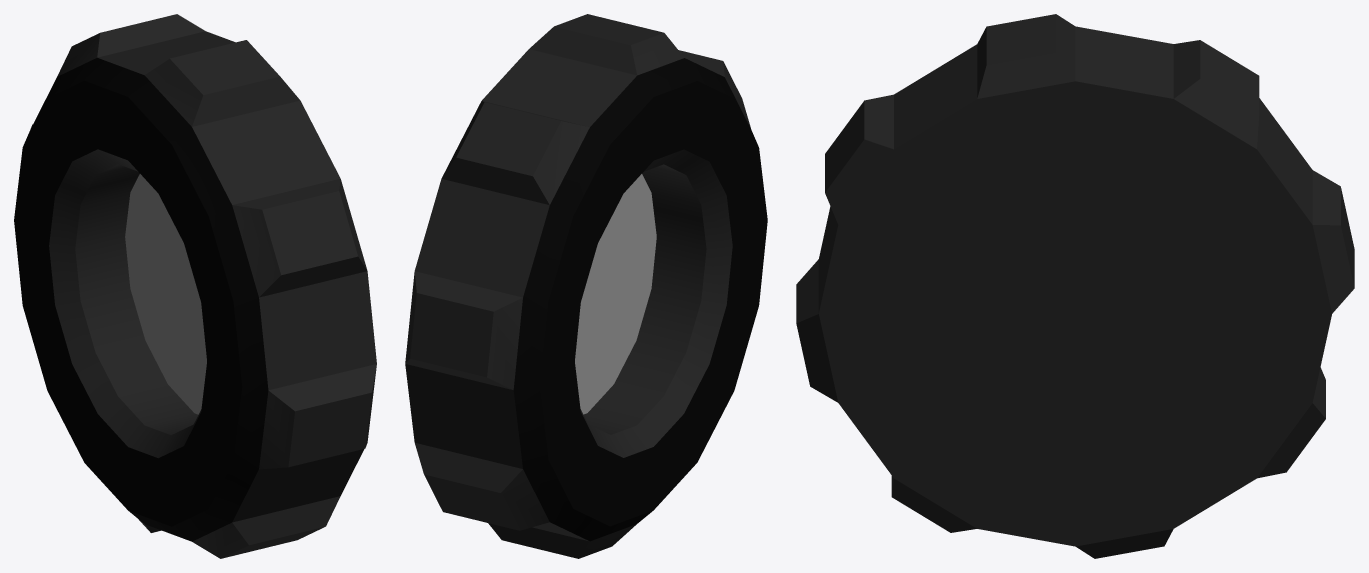
File: RodasBasicas.fbx
3 renders of one model, left to right at view 1: azimuth 30°, elevation 25°; view 2: azimuth 150°, elevation 25°; view 3: azimuth 270°, elevation 25°, orthographic. The views are drawn at different scales.
Parts seen in each view (by area): view 1: Interior.004; view 2: Interior.004; view 3: Interior.004.
Boxes of the visible parts, x1,y1,x2,y2 form: Interior.004: [14, 14, 376, 558]; Interior.004: [405, 14, 767, 558]; Interior.004: [796, 14, 1354, 558].
Bounding box in the file's own units: 13.22 × 49.34 × 49.34.
